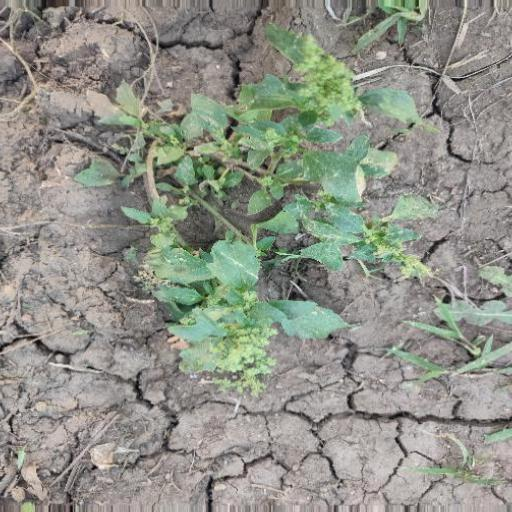weed: (120, 70, 415, 395)
